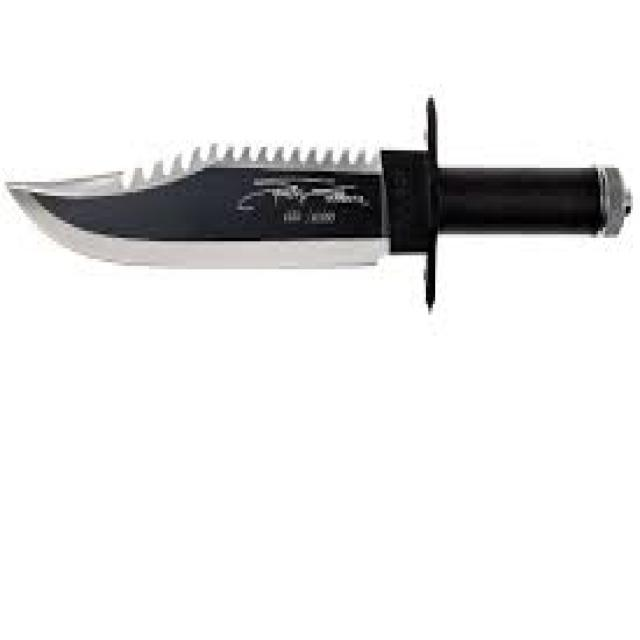knife: (3, 73, 639, 329)
